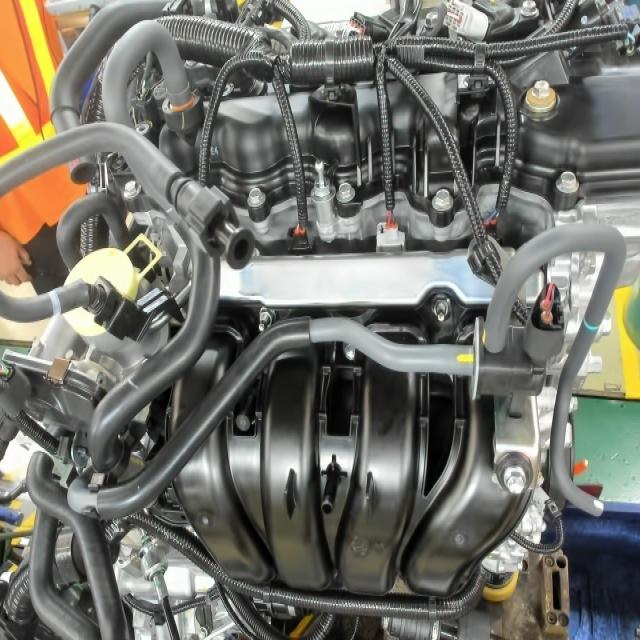Hose Canister-HJ: (581, 315, 601, 335)
Tube Sub Assy Fuel-W: (44, 284, 64, 322)
